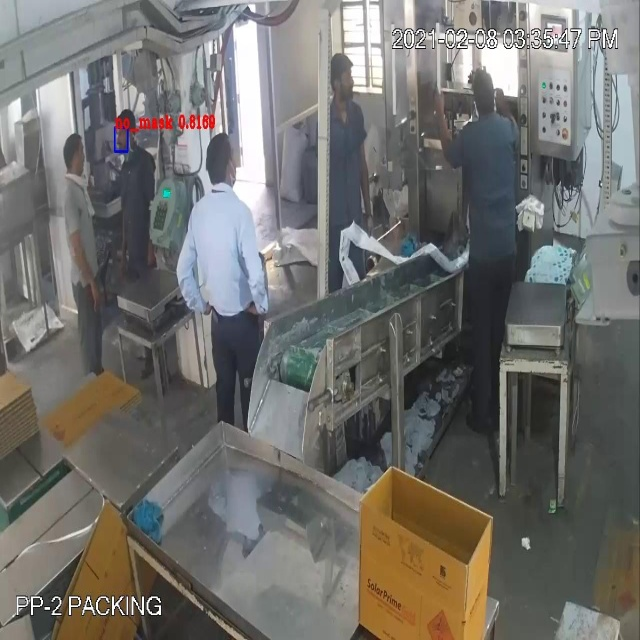Sin_guantes: (63, 215, 108, 327), (172, 219, 212, 341), (350, 111, 384, 254), (234, 204, 268, 345), (490, 76, 533, 161), (423, 78, 458, 174)
